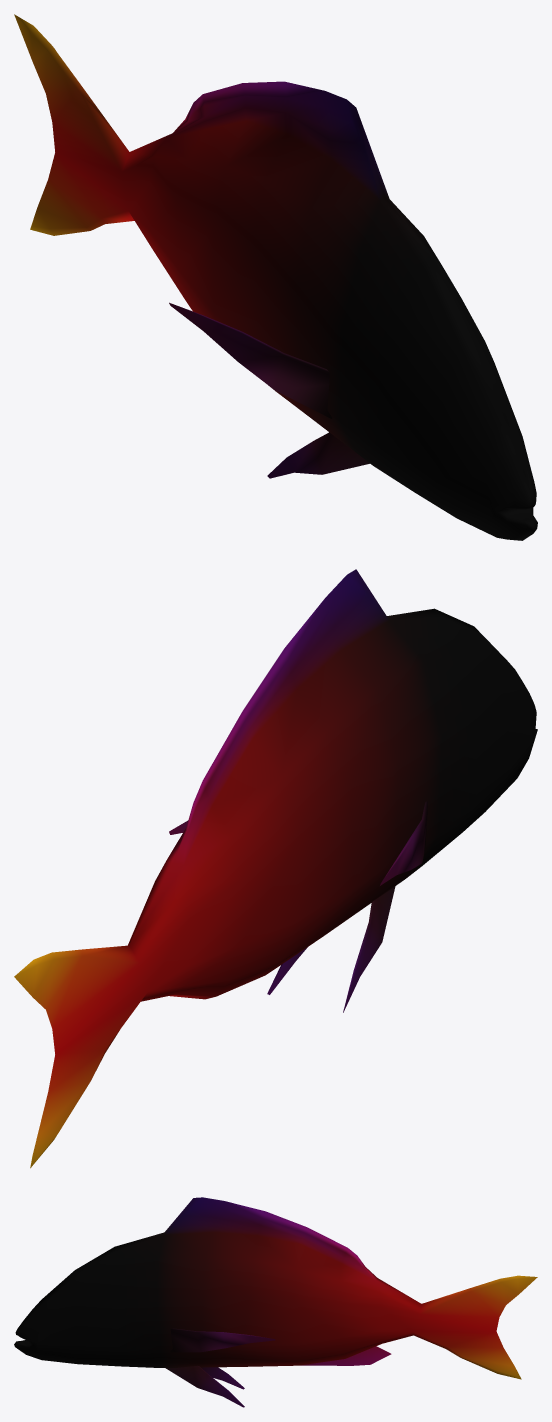
3 renders of one model, top to bottom at view 1: azimuth 30°, elevation 25°; view 2: azimuth 150°, elevation 25°; view 3: azimuth 270°, elevation 25°, orthographic. The views are drawn at different scales.
Parts seen in each view (by area): view 1: common dentex final; view 2: common dentex final; view 3: common dentex final.
Boxes of the visible parts, left/top/right/bottom form: common dentex final: left=14, top=14, right=537, bottom=540; common dentex final: left=14, top=569, right=537, bottom=1168; common dentex final: left=14, top=1197, right=537, bottom=1407.
Size of the model in its own units: 0.1254 by 0.2261 by 0.5334.
